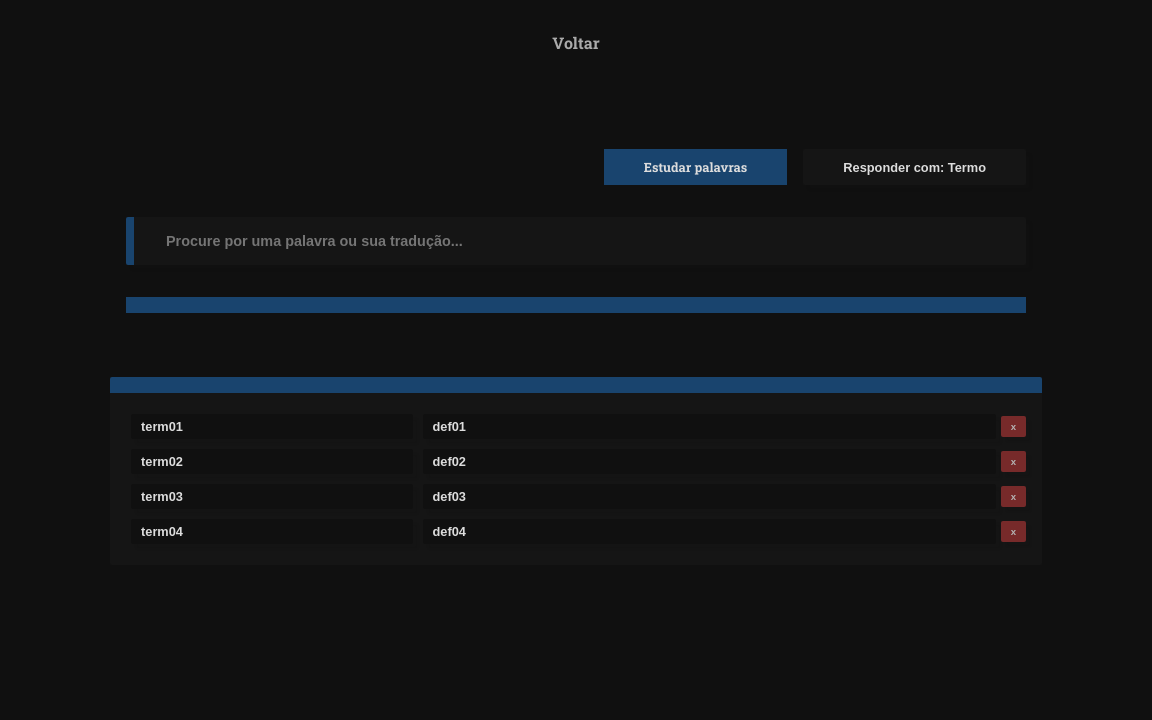
WordList - Remove word › Show error notification due to request error
Click the 1st button "x": (1013, 426) [1001,416,1026,437]
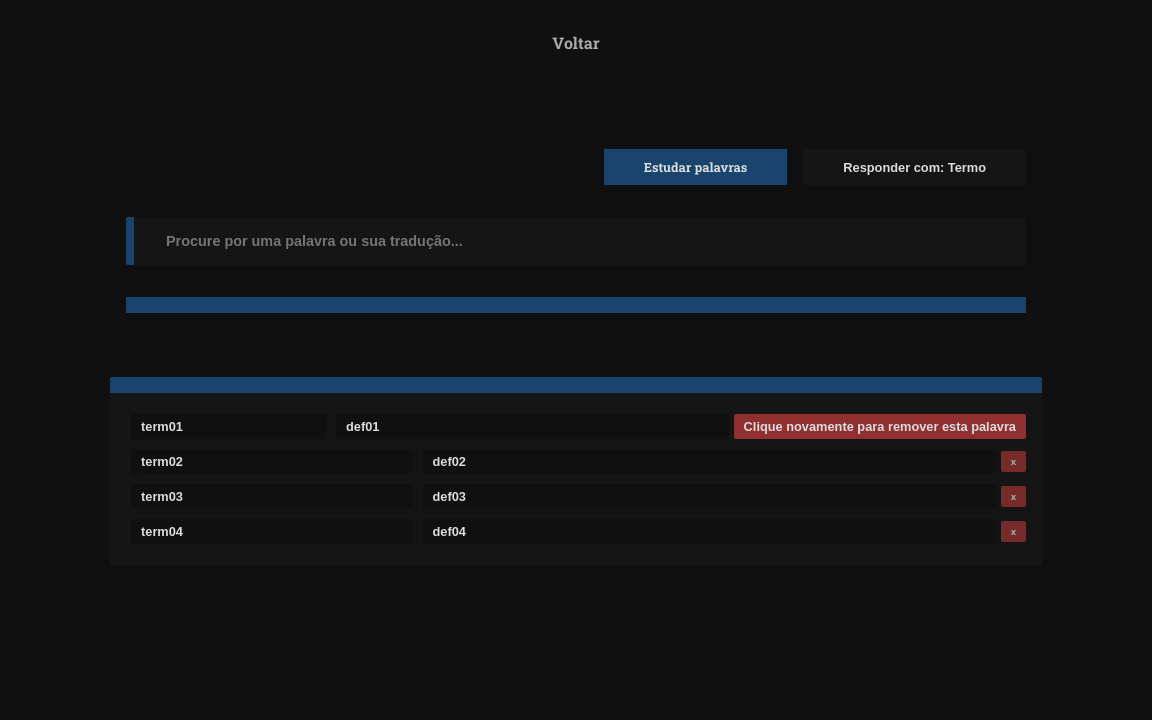
Click the button "Clique novamente para remover esta palavra": (880, 426) [734,414,1026,439]
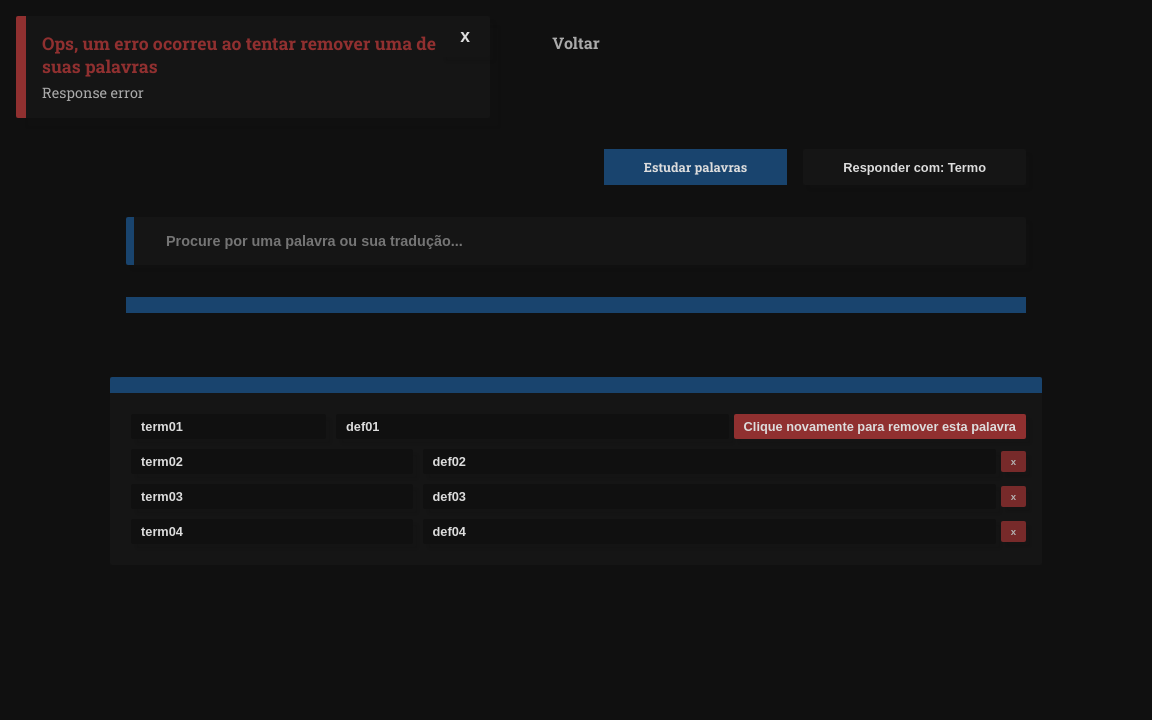
Check: the text with class "description" reads "Response error", box [42,83,144,102]
